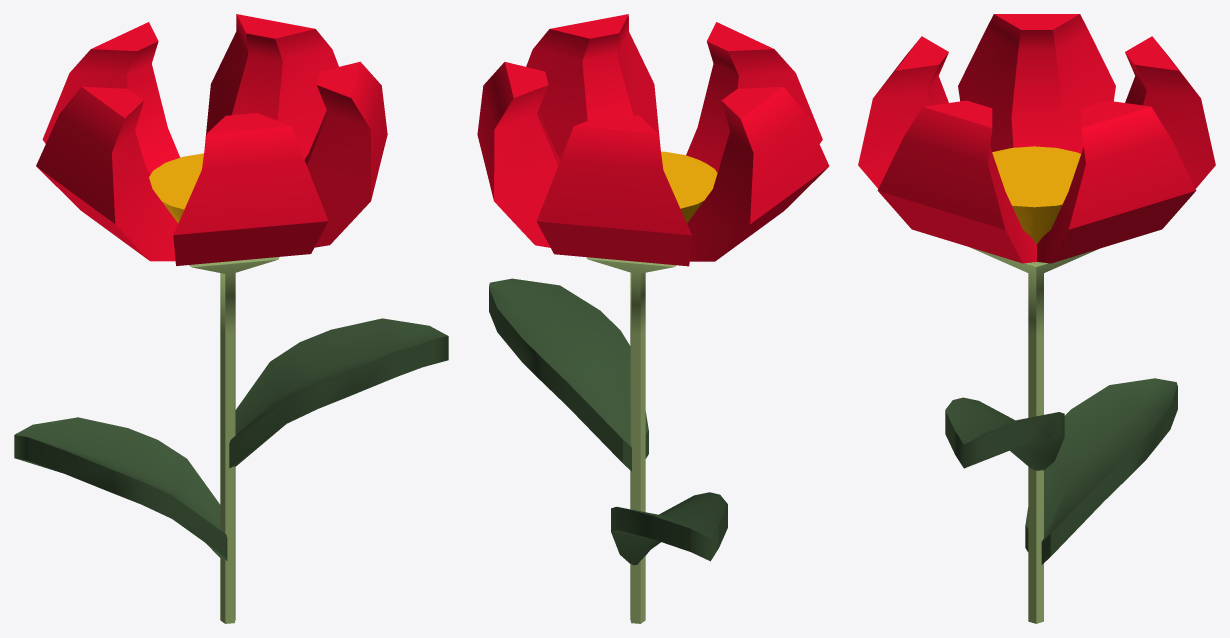
Rendered from Flower_3.fbx.
The picture shows the model from 3 angles, left to right: view 1: azimuth 30°, elevation 25°; view 2: azimuth 150°, elevation 25°; view 3: azimuth 270°, elevation 25°; orthographic projection.
Parts seen in each view (by area): view 1: pPipe12, pCube6, pCube7, pPipe13, pCylinder1; view 2: pPipe12, pCube6, pCube7, pPipe13, pCylinder1; view 3: pPipe12, pCube7, pCube6, pPipe13, pCylinder1.
Part boxes in pixels (x1,y1,x2,y2): pPipe12: (36, 14, 387, 265); pCube6: (229, 318, 448, 468); pCube7: (14, 417, 227, 560); pPipe13: (189, 257, 279, 623); pCylinder1: (149, 153, 203, 223); pPipe12: (477, 14, 829, 266); pCube6: (489, 278, 648, 471); pCube7: (611, 492, 727, 565); pPipe13: (587, 257, 676, 623); pCylinder1: (661, 151, 717, 223); pPipe12: (858, 14, 1215, 263); pCube7: (1025, 378, 1177, 564); pCube6: (945, 397, 1064, 470); pPipe13: (970, 247, 1098, 623); pCylinder1: (992, 146, 1080, 243).
Bounding box in the file's own units: 27.82 × 43.34 × 25.76.
